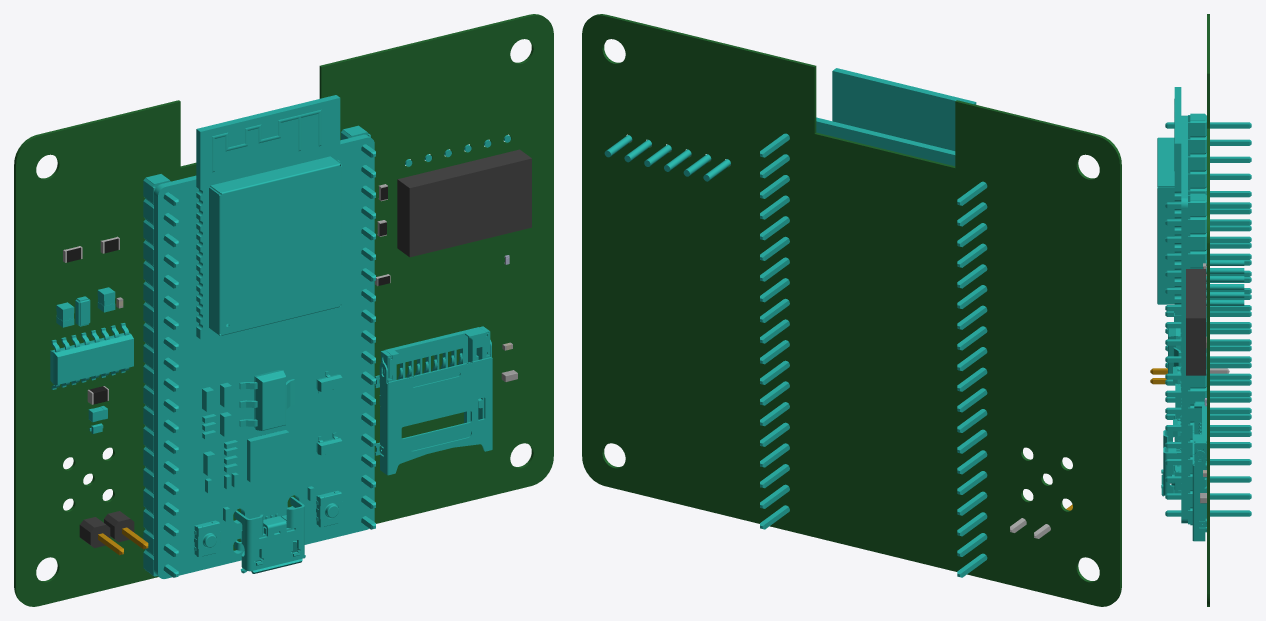
The model's file is enav.glb.
3 views of the same model, side by side, from view 1: azimuth 30°, elevation 25°; view 2: azimuth 150°, elevation 25°; view 3: azimuth 270°, elevation 25° (orthographic). The views are drawn at different scales.
Bounding box in the file's own units: 69.2 × 57.8 × 13.62.
